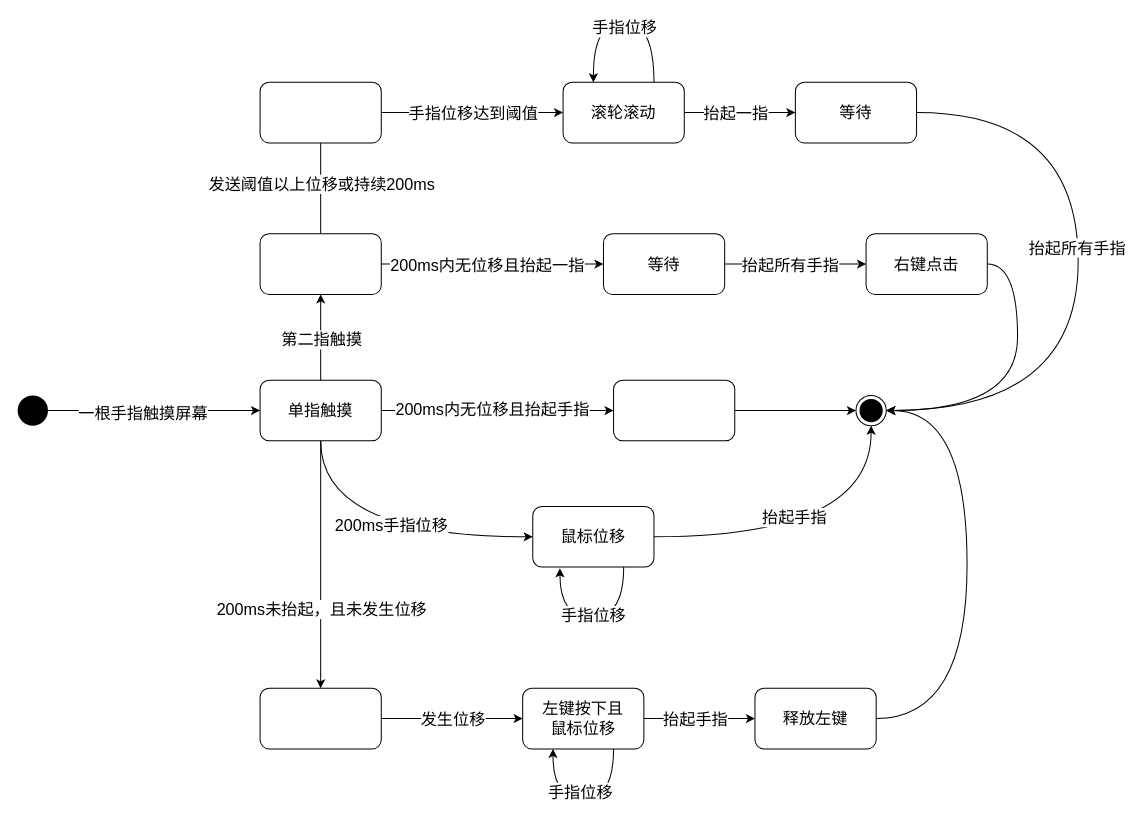
The diagram is 1142 pixels wide and 818 high, and some of its shapes have lost their labels. The shapes that lost their labels are listed below. From the top down, each one's box as (x1, y1, x2, y2) in pixels, then its label:
(259, 81, 381, 143): 滚轮等待
(259, 233, 381, 294): 双指触摸
(613, 379, 735, 441): 左键点击
(259, 687, 381, 749): 左键按下
